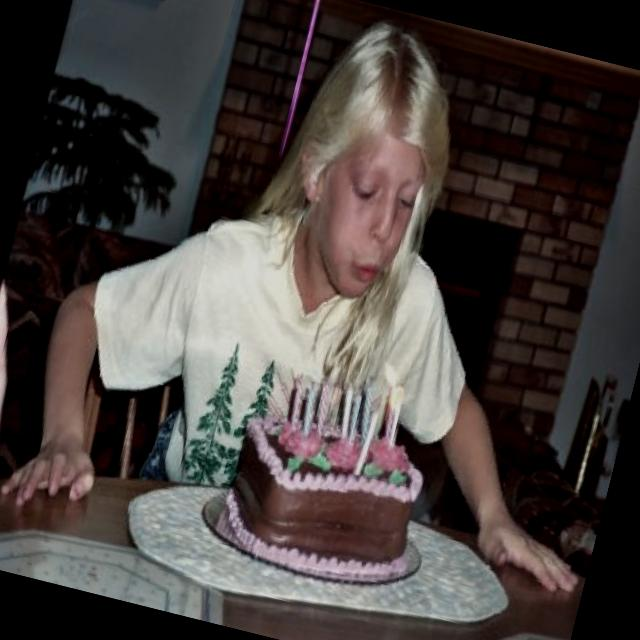Person: (42, 1, 596, 597)
